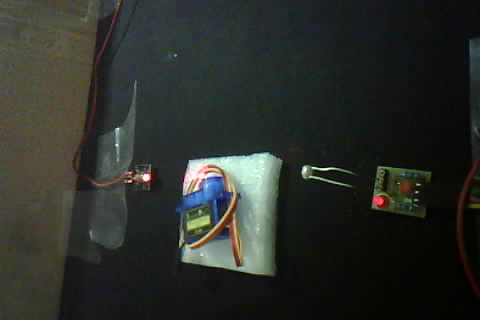motor: (175, 157, 280, 271)
